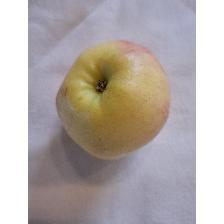Apfel: (55, 36, 172, 162)
